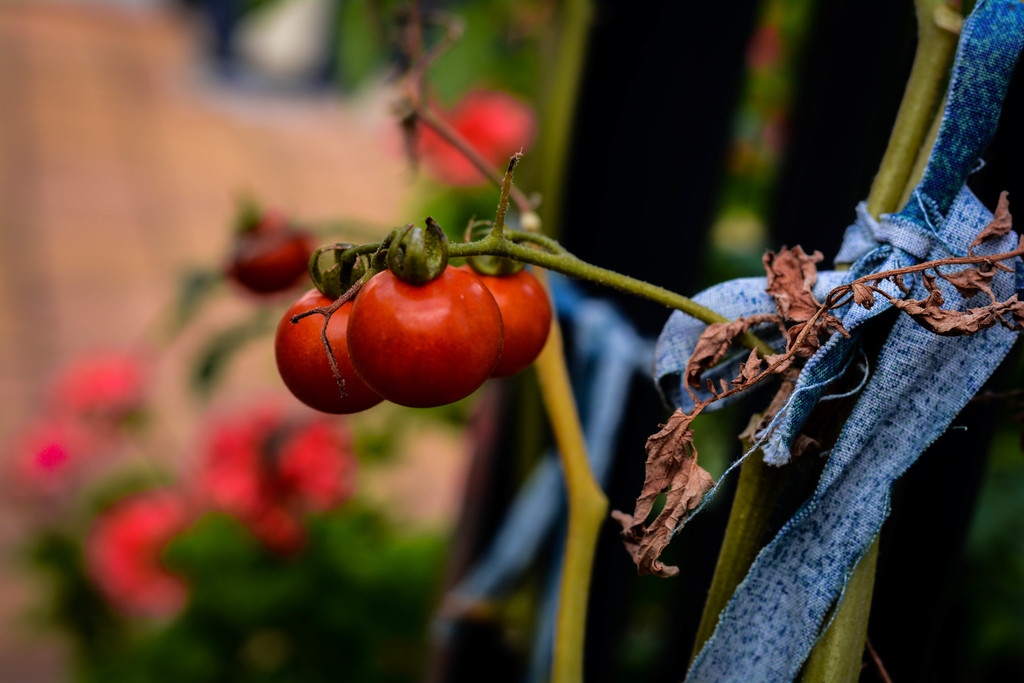Tomato: (344, 211, 502, 409), (272, 288, 392, 414), (458, 262, 556, 378)
